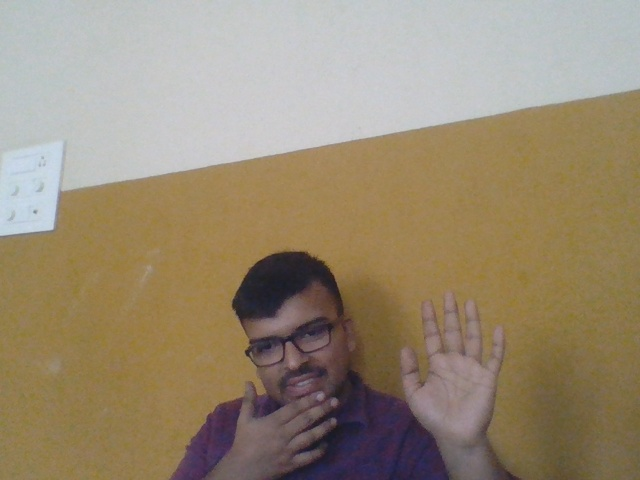Hello: (394, 285, 525, 452)
